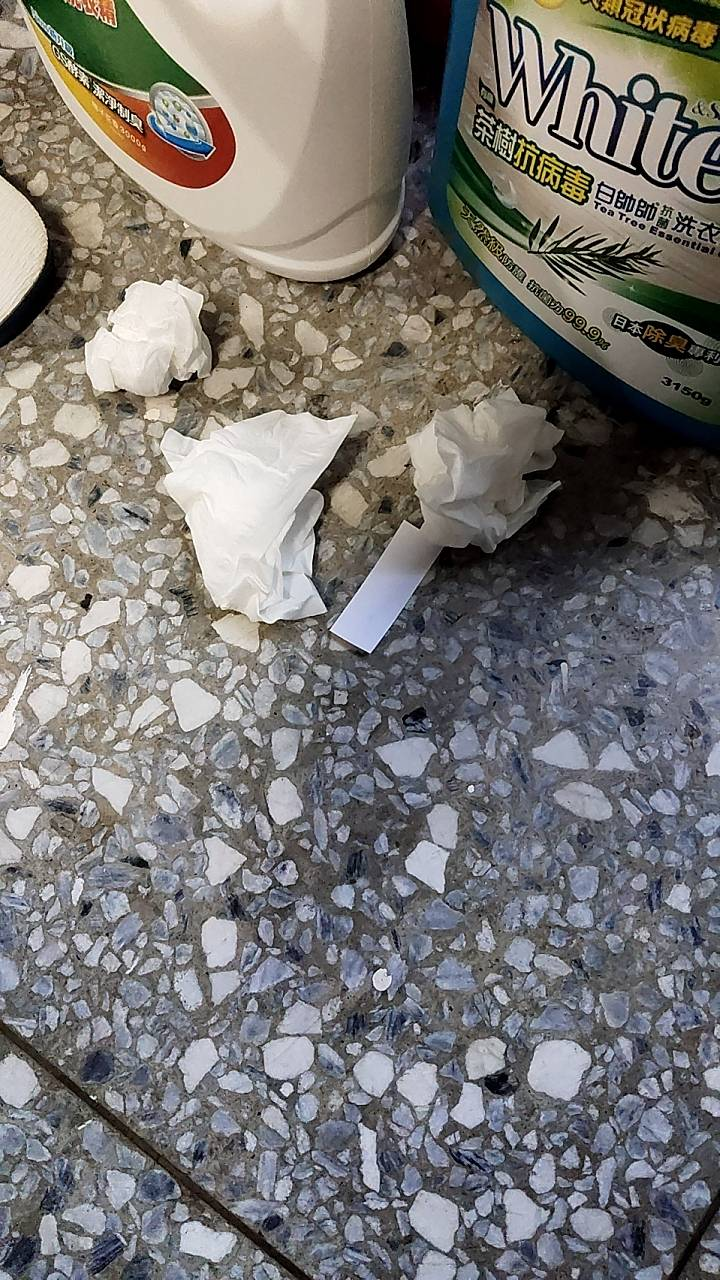General waste: (65, 235, 618, 715)
paper: (318, 505, 438, 662)
